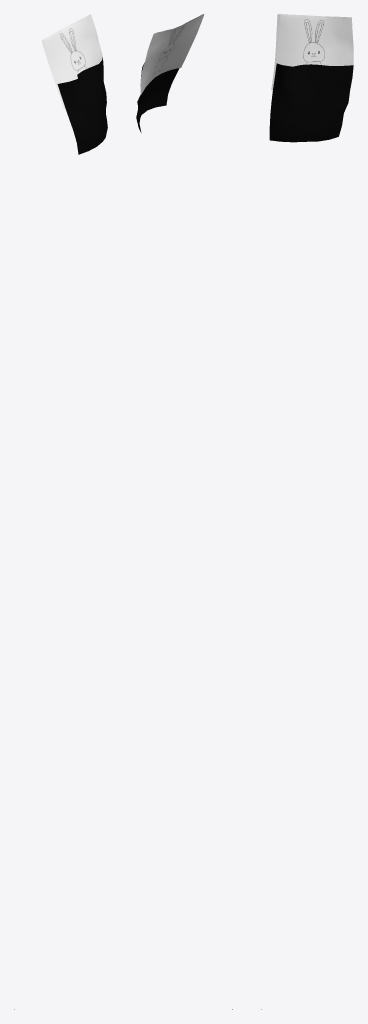
The model's file is dress01.glb.
3 renders of one model, left to right at view 1: azimuth 30°, elevation 25°; view 2: azimuth 210°, elevation 25°; view 3: azimuth 330°, elevation 25°, orthographic. The views are drawn at different scales.
Parts seen in each view (by area): view 1: Object_3, Object_2.001; view 2: Object_2.001, Object_3; view 3: Object_3, Object_2.001.
Part boxes in pixels (x1,y1,x2,y2): Object_3: (57, 57, 107, 154); Object_2.001: (41, 14, 103, 109); Object_2.001: (140, 14, 204, 95); Object_3: (136, 63, 179, 132); Object_3: (269, 63, 353, 142); Object_2.001: (271, 14, 353, 90).
Bounding box in the file's own units: 139 × 1455 × 90.55.
Materials: 4 (2 with a texture image).
